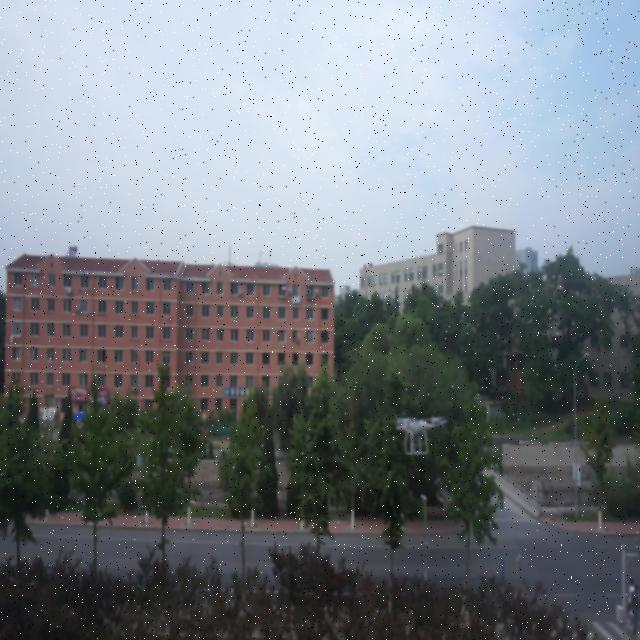UAV: (393, 416, 447, 455)
